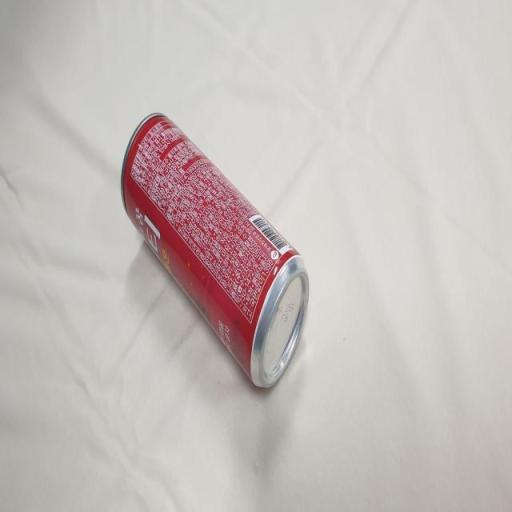metal: (113, 94, 318, 412)
